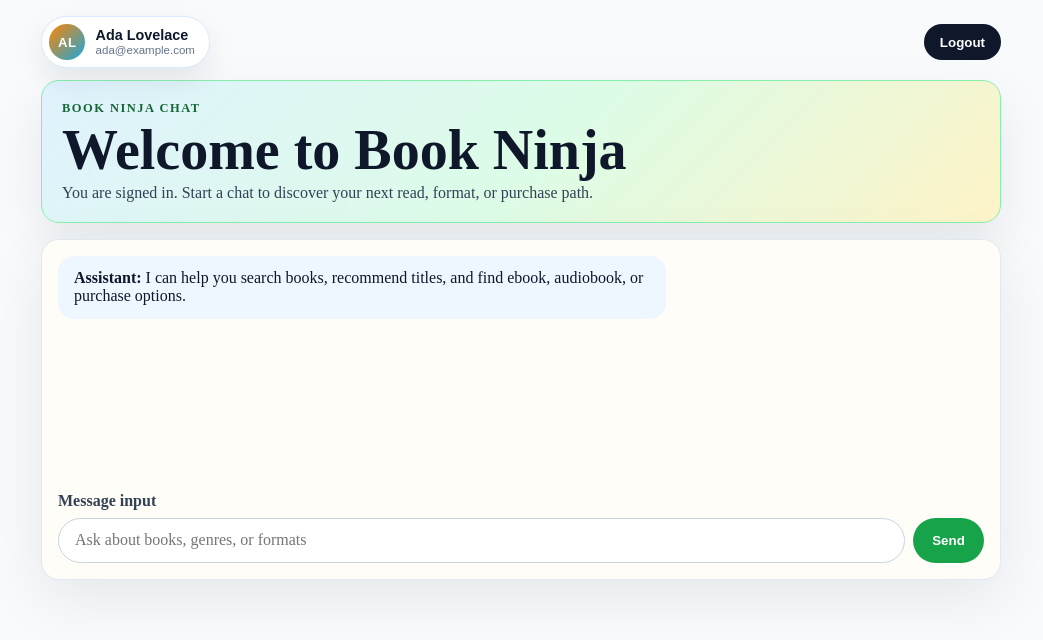
Test case: chat page shell › appends user message when input is non-empty
Step 1. Type "Find me sci-fi books by Asimov" into the field labelled "Message input" → (482, 540), box [58,518,905,563]
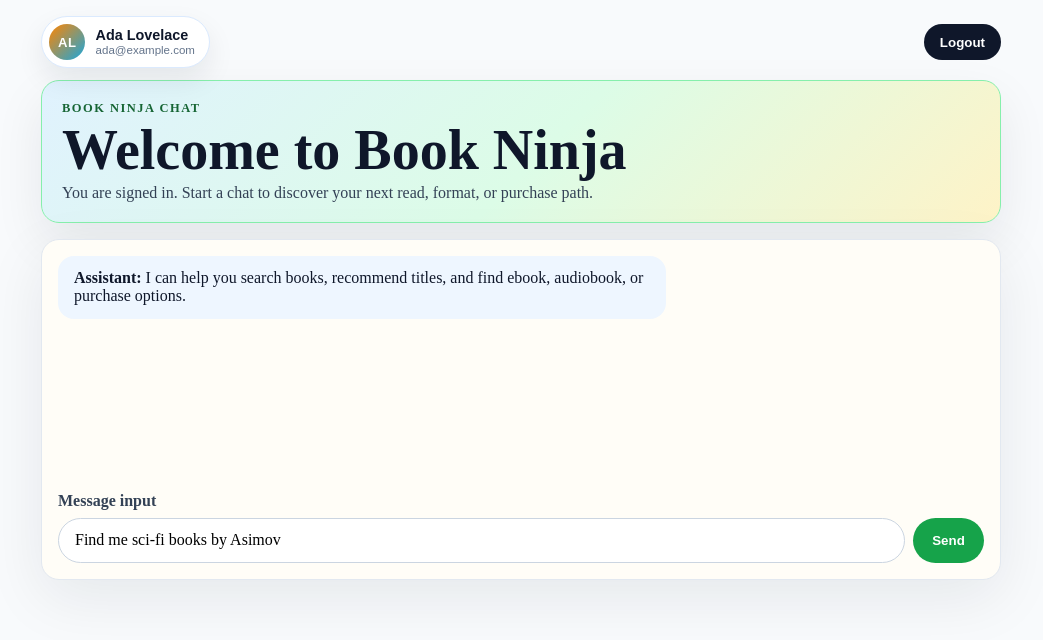
Step 2. Click the button "Send" → (948, 540), box [913,518,984,563]
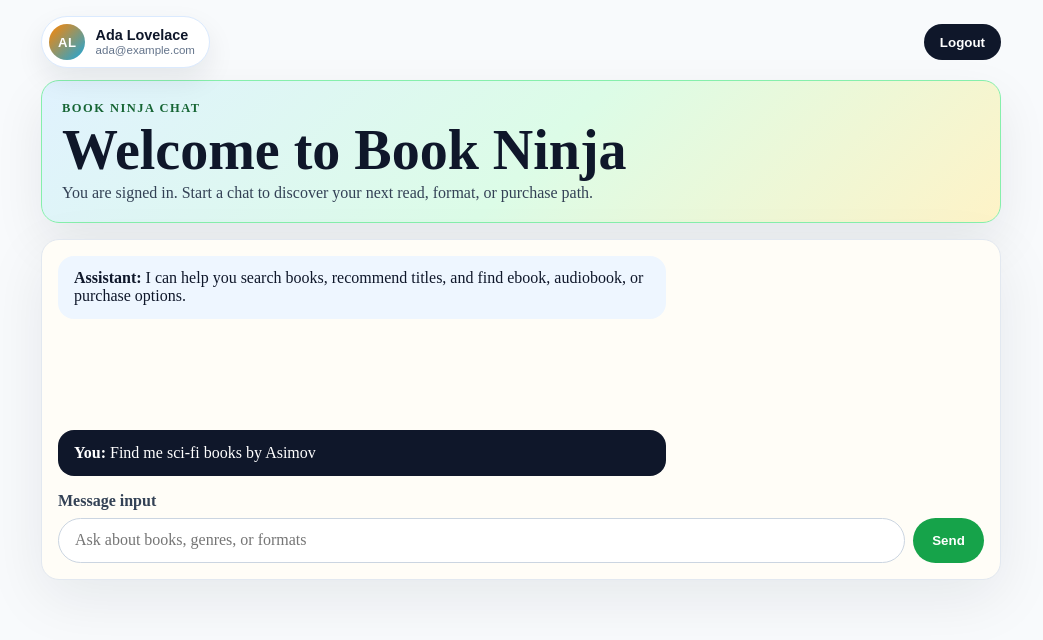
Expected: the text "Find me sci-fi books by Asimov" is shown, [110,444,316,461]
